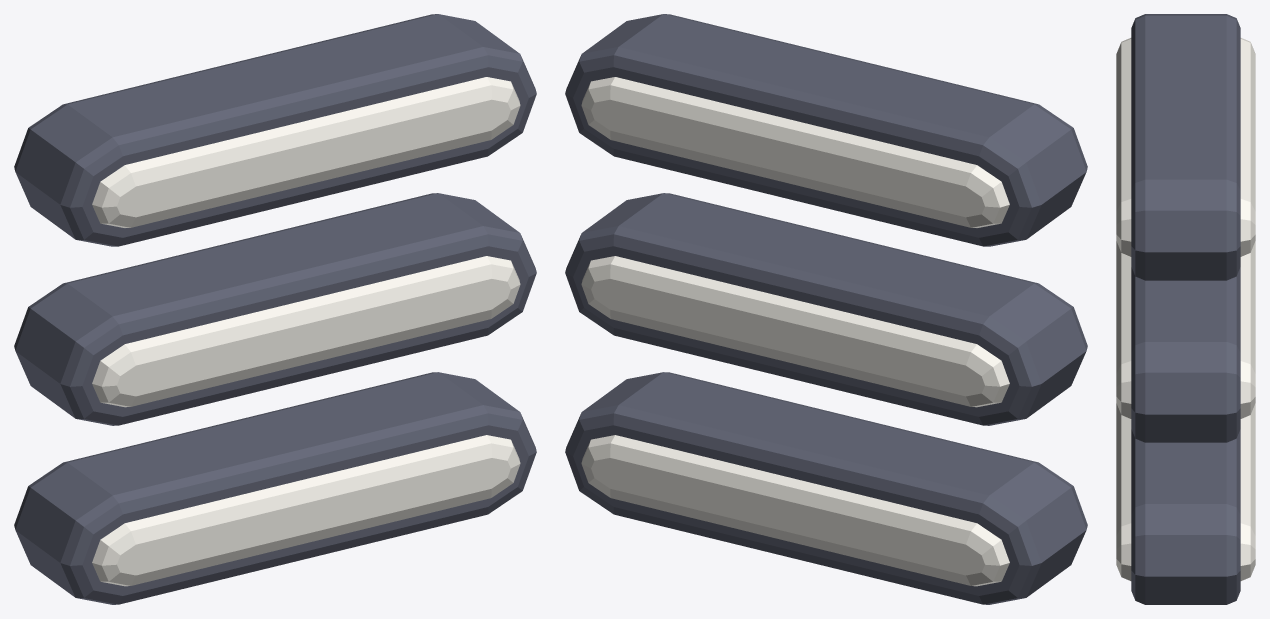
Rendered from game-ui-icon-library-menu-bars-f609940b__19056.glb.
3 views of the same model, side by side, from view 1: azimuth 30°, elevation 25°; view 2: azimuth 150°, elevation 25°; view 3: azimuth 270°, elevation 25° (orthographic). The views are drawn at different scales.
Parts seen in each view (by area): view 1: menu-bars; view 2: menu-bars; view 3: menu-bars.
Part boxes in pixels (bbox=[...]): menu-bars: bbox=[14, 14, 536, 604]; menu-bars: bbox=[565, 14, 1087, 604]; menu-bars: bbox=[1116, 14, 1255, 604].
Size of the model in its own units: 0.98 by 0.9213 by 0.2744.
